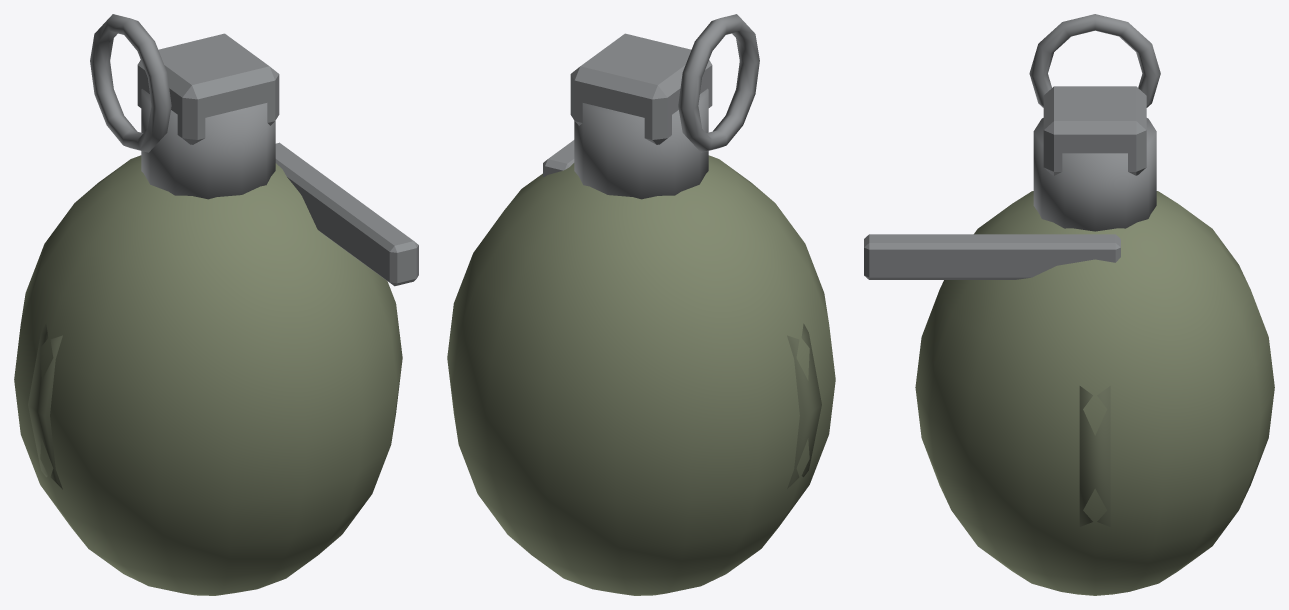
The model's file is grenade.glb.
The picture shows the model from 3 angles, left to right: view 1: azimuth 30°, elevation 25°; view 2: azimuth 150°, elevation 25°; view 3: azimuth 270°, elevation 25°; orthographic projection. The views are drawn at different scales.
Visible parts, largest first — view 1: Grenade; view 2: Grenade; view 3: Grenade.
Boxes of the visible parts, <box> form: Grenade: <box>14,14,418,595</box>; Grenade: <box>447,14,835,595</box>; Grenade: <box>864,14,1274,595</box>.
Bounding box in the file's own units: 0.071 × 0.1148 × 0.08.
